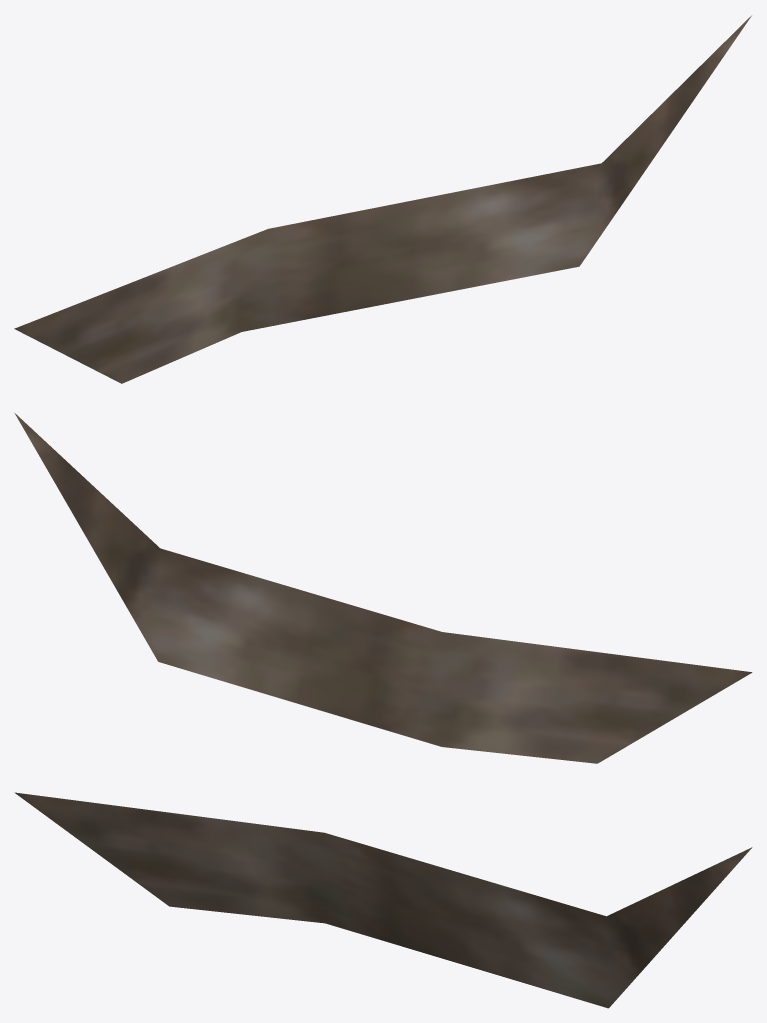
File: EKH_THRONE_PS_TH_ROCK_SEEM_01.fbx
3 renders of one model, top to bottom at view 1: azimuth 30°, elevation 25°; view 2: azimuth 150°, elevation 25°; view 3: azimuth 330°, elevation 25°, orthographic. The views are drawn at different scales.
Visible parts, largest first — view 1: EKH_THRONE_PS_TH_ROCK_SEEM_01; view 2: EKH_THRONE_PS_TH_ROCK_SEEM_01; view 3: EKH_THRONE_PS_TH_ROCK_SEEM_01.
Boxes of the visible parts, x1,y1,x2,y2 form: EKH_THRONE_PS_TH_ROCK_SEEM_01: [14, 15, 751, 383]; EKH_THRONE_PS_TH_ROCK_SEEM_01: [14, 413, 752, 763]; EKH_THRONE_PS_TH_ROCK_SEEM_01: [14, 792, 752, 1008].
Size of the model in its own units: 19371 by 5322 by 2297.
Materials: 1 (1 with a texture image).
